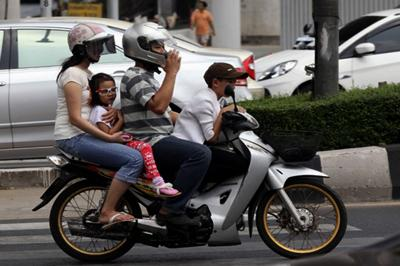With Helmet: (120, 18, 176, 73), (65, 17, 116, 65)
